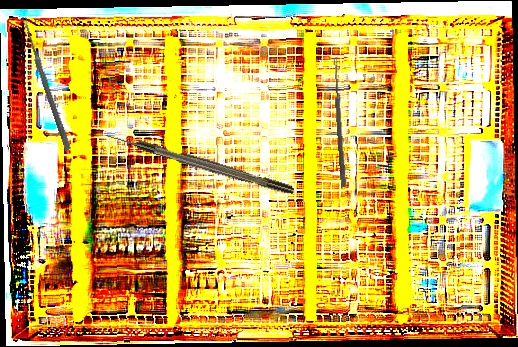Hook Surgical: (104, 129, 295, 197)
Surgical Spoon: (19, 16, 73, 151), (331, 56, 348, 188)
